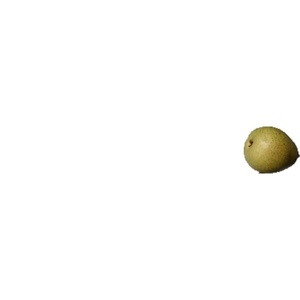pera: (244, 125, 300, 174)
